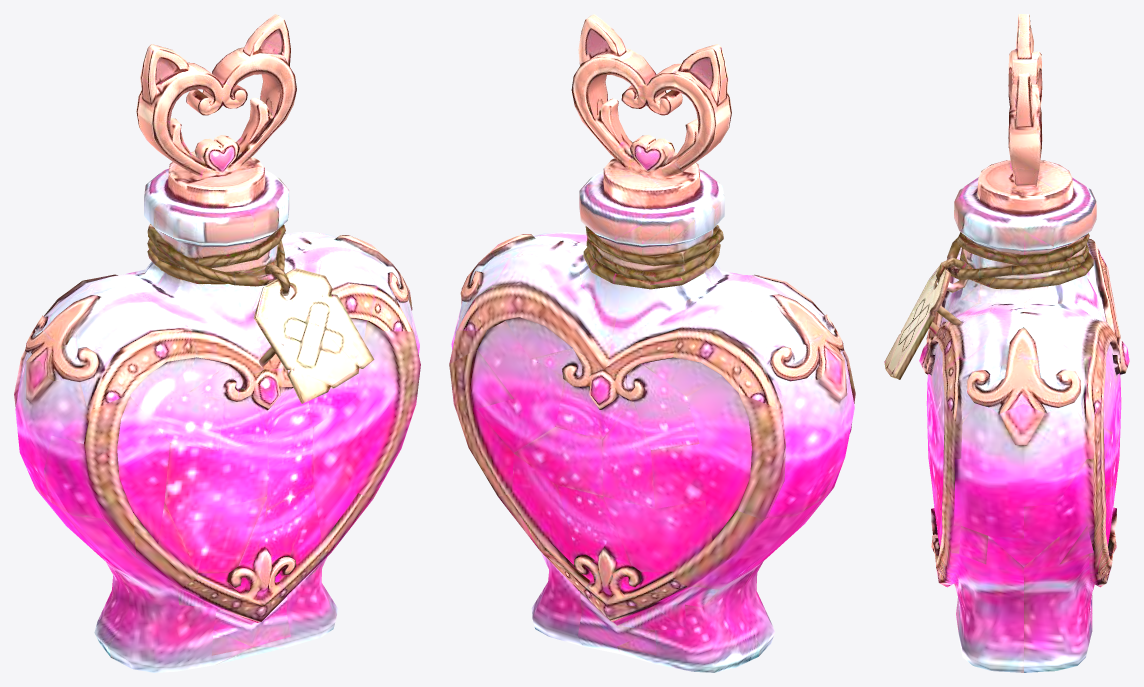
The model's file is pickup_heal.glb.
3 renders of one model, left to right at view 1: azimuth 30°, elevation 25°; view 2: azimuth 150°, elevation 25°; view 3: azimuth 270°, elevation 25°, orthographic. The views are drawn at different scales.
Visible parts, largest first — view 1: pickup_heal; view 2: pickup_heal; view 3: pickup_heal.
Boxes of the visible parts, box(x1,y1,x2,y2) form: pickup_heal: box(14, 14, 420, 672); pickup_heal: box(449, 14, 855, 672); pickup_heal: box(884, 14, 1129, 672).
Size of the model in its own units: 0.6631 by 1 by 0.3831.
Materials: 1 (1 with a texture image).
